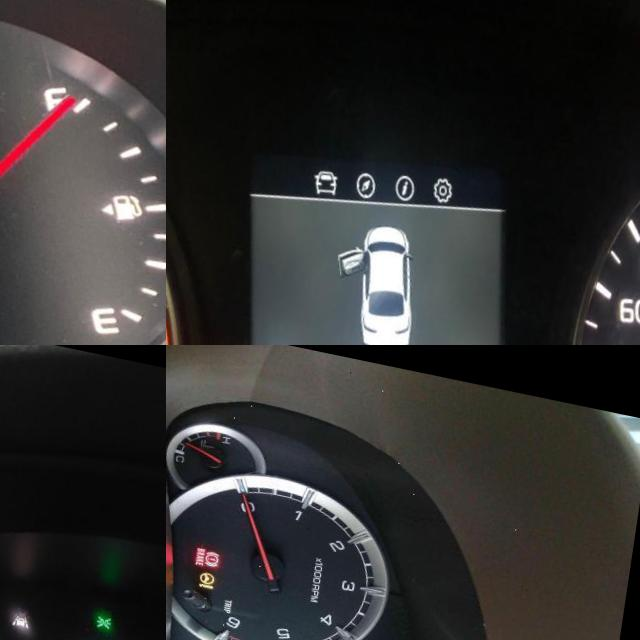LaneCenteringOff: (19, 600, 38, 617)
SideLamp: (104, 597, 120, 613)
